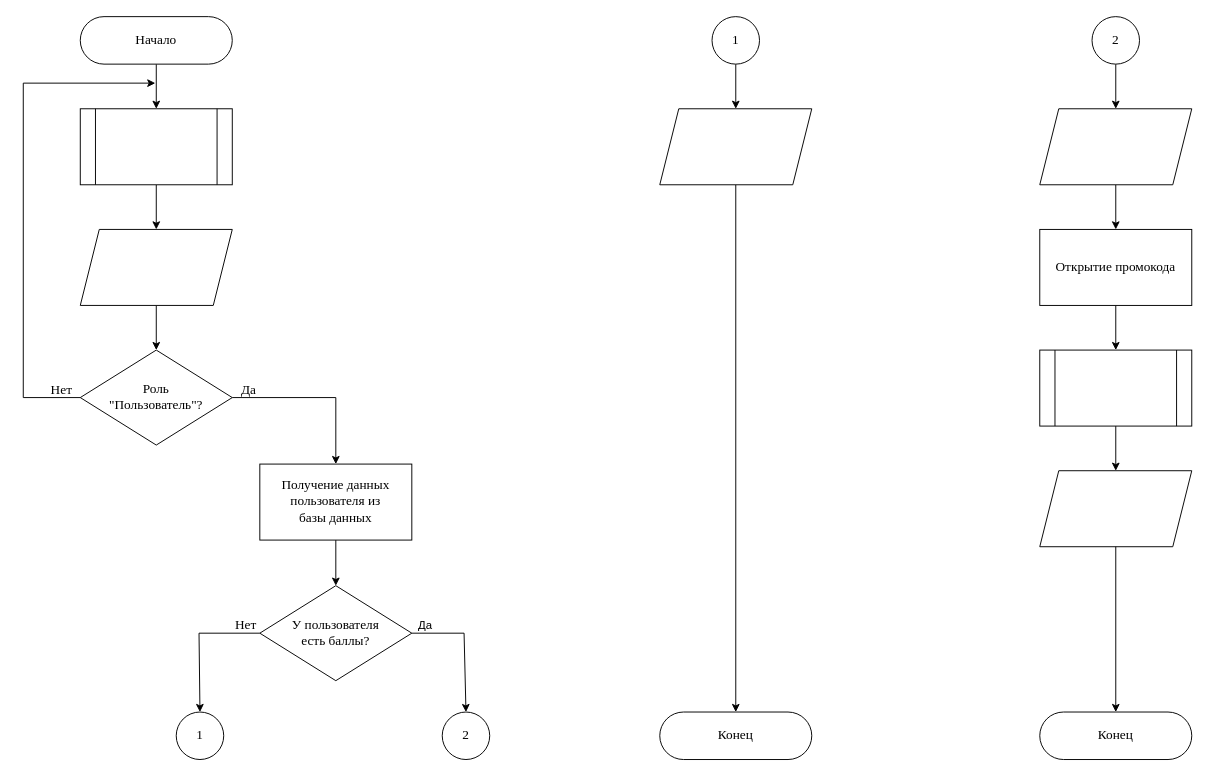
Image size: 1208x776. Some labels were removed from this diagram. The shapes that lost their labels are listed below. From the top down, each one's centre as x and y in pixels, then its label:
point (155, 146): Авторизация
point (735, 146): Вывод сообщения "Скидок нет"
point (1115, 146): Вывод доступных скидок
point (155, 266): Получение данных с сервера
point (1115, 387): Списание баллов за промокод
point (1115, 508): Вывод открытого промокода
